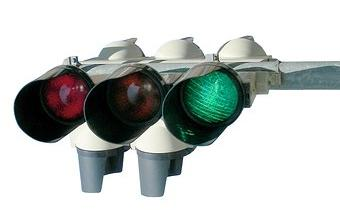trafic: (13, 59, 253, 143)
